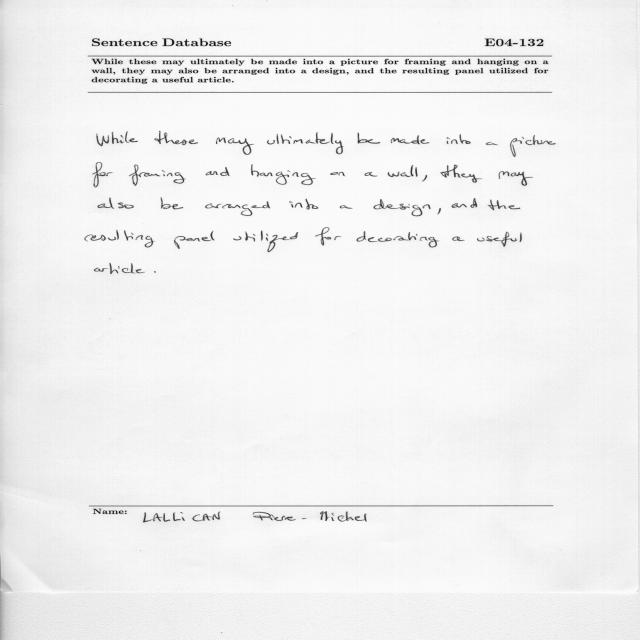word: (267, 133, 344, 155), (234, 231, 299, 253), (251, 164, 316, 185), (356, 231, 439, 247), (85, 230, 155, 248), (129, 164, 185, 186), (510, 135, 556, 157), (205, 201, 270, 216), (374, 199, 431, 216), (441, 165, 482, 183), (174, 231, 214, 249), (216, 137, 254, 155), (477, 232, 522, 247), (154, 131, 198, 145), (97, 132, 138, 147), (94, 263, 145, 274), (92, 163, 113, 188), (499, 171, 534, 186), (315, 228, 341, 246), (98, 198, 134, 209), (388, 165, 418, 177), (488, 200, 520, 211), (391, 136, 429, 145), (289, 199, 319, 209), (358, 133, 381, 144), (452, 198, 477, 208), (161, 198, 183, 209), (447, 134, 471, 144), (206, 167, 230, 176), (452, 236, 465, 241), (330, 172, 345, 176), (365, 172, 378, 176), (340, 205, 353, 209), (486, 142, 498, 145), (422, 175, 427, 182), (438, 208, 441, 214), (154, 271, 156, 273)
